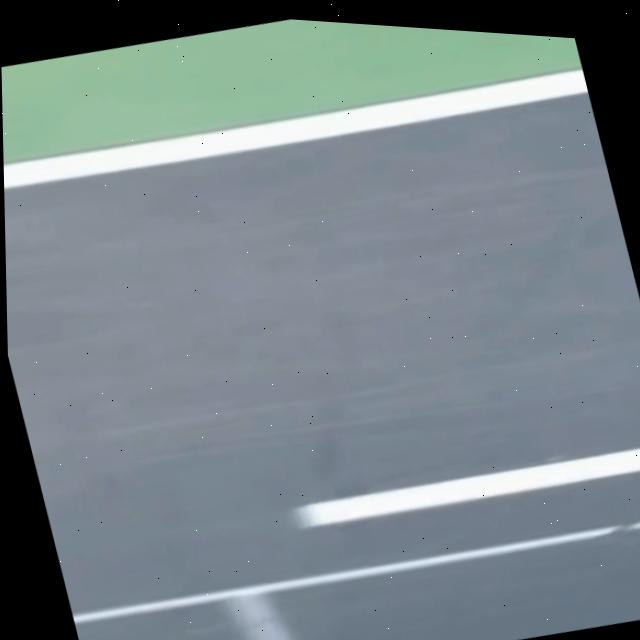center: (295, 447, 640, 527)
right: (4, 69, 588, 188)
